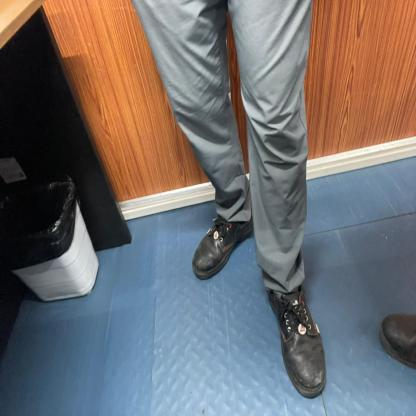bota: (267, 284, 327, 399), (191, 212, 253, 282)
